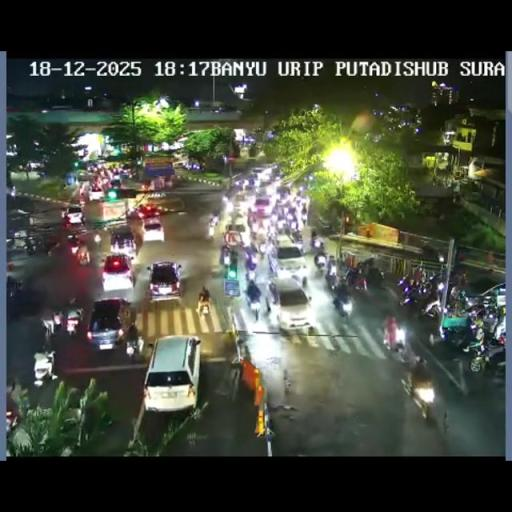Car: (142, 334, 201, 412), (86, 297, 133, 350), (270, 276, 312, 330), (273, 238, 308, 282), (146, 261, 184, 301), (100, 254, 135, 292), (467, 280, 506, 309), (110, 230, 136, 258), (142, 216, 164, 242), (231, 190, 251, 218), (62, 205, 84, 225), (253, 196, 273, 218), (250, 166, 274, 184), (134, 203, 159, 220), (88, 184, 104, 202), (274, 185, 292, 200), (76, 168, 90, 182), (110, 174, 123, 188)
Motorcycle: (467, 326, 504, 371), (403, 370, 436, 420), (438, 311, 476, 352), (398, 274, 436, 312), (381, 320, 406, 355), (33, 348, 57, 384), (62, 298, 84, 334), (93, 399, 115, 430), (8, 380, 28, 413), (332, 288, 354, 317), (125, 330, 144, 360), (364, 268, 386, 290), (491, 309, 506, 341), (344, 264, 362, 289), (6, 276, 24, 298), (75, 242, 91, 266), (248, 293, 262, 320), (448, 285, 466, 306), (42, 320, 56, 346), (5, 407, 18, 435), (316, 218, 336, 235), (324, 268, 338, 291), (220, 243, 232, 267), (197, 294, 210, 316), (452, 270, 467, 288), (310, 234, 324, 253), (314, 250, 327, 269), (52, 308, 63, 330), (290, 228, 303, 246), (275, 214, 288, 232), (269, 282, 278, 306), (66, 232, 80, 247), (246, 264, 257, 282), (25, 239, 37, 255), (92, 228, 102, 247), (207, 220, 216, 238), (257, 238, 267, 254), (300, 207, 308, 226), (222, 195, 231, 211), (238, 178, 250, 190), (264, 295, 271, 315)
